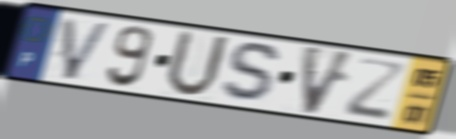9: (105, 24, 156, 90)
S: (218, 40, 286, 106)
U: (162, 27, 232, 100)
V: (300, 43, 359, 118), (60, 15, 115, 83)
Z: (341, 54, 408, 123)
